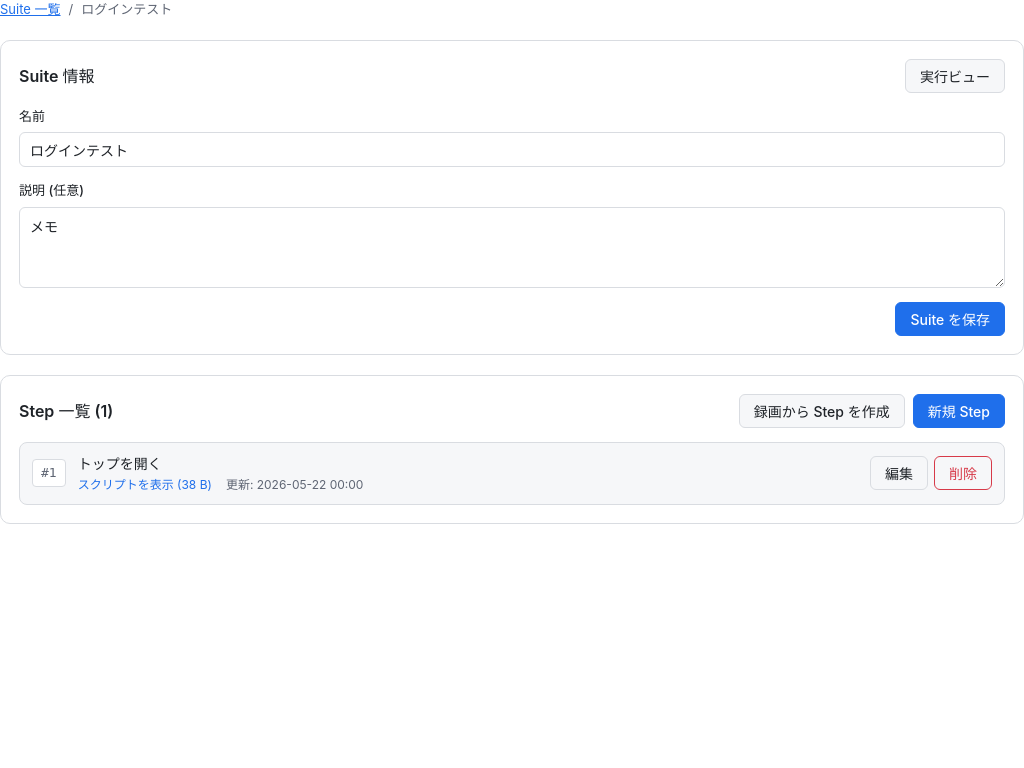
Scenario: SuiteEditPage › 新規Stepボタンを押すとStep編集モーダルが開く
Expected: the text "トップを開く" is shown, [78, 454, 162, 472]
Click the button "新規 Step".
click(959, 410)  # box [913, 394, 1005, 428]
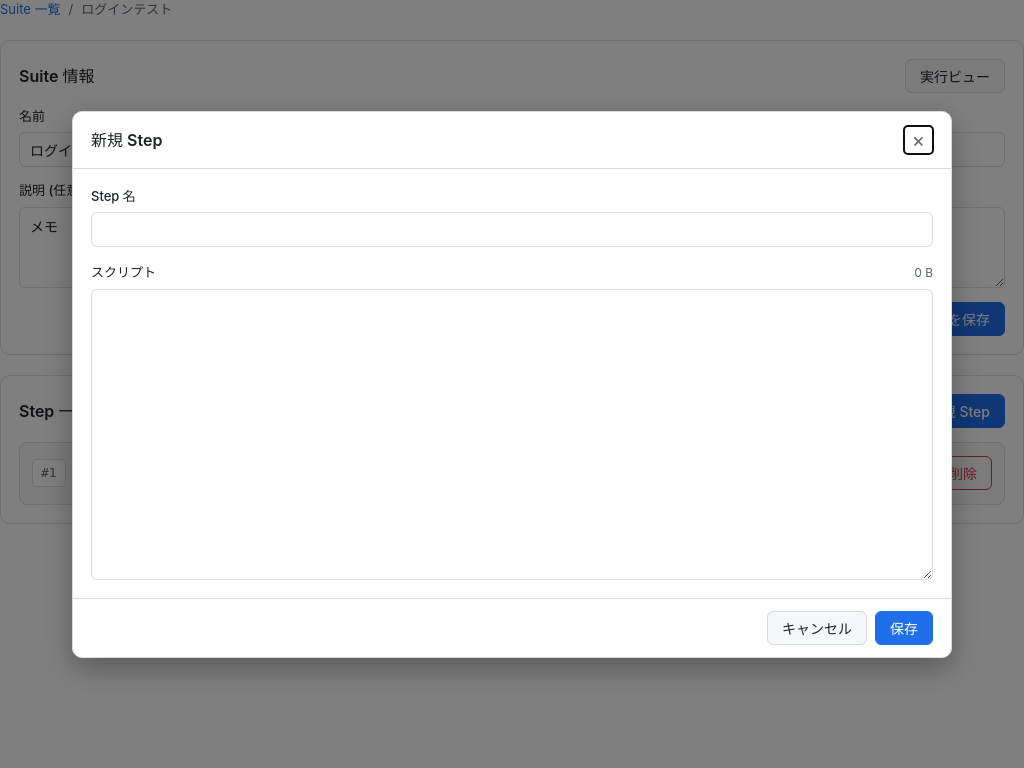
Now the field labelled "Step 名" is shown, box [91, 212, 933, 247]
Now the text box labelled "スクリプト" is shown, box [91, 288, 933, 580]
